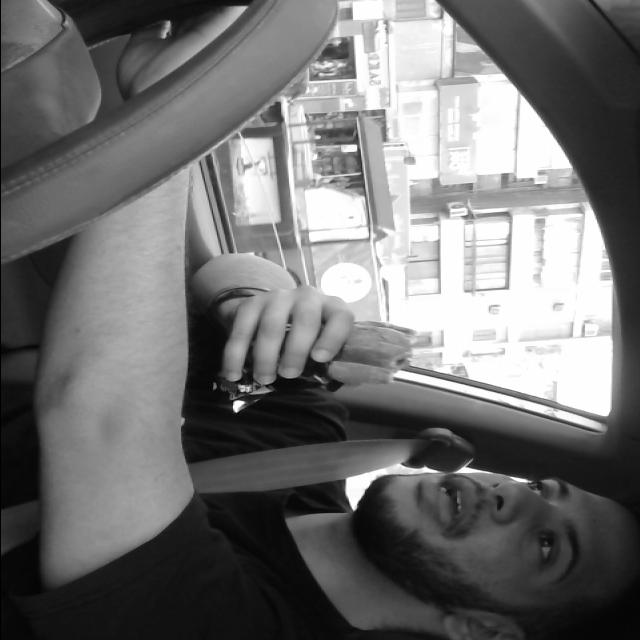eating: (210, 315, 418, 401)
